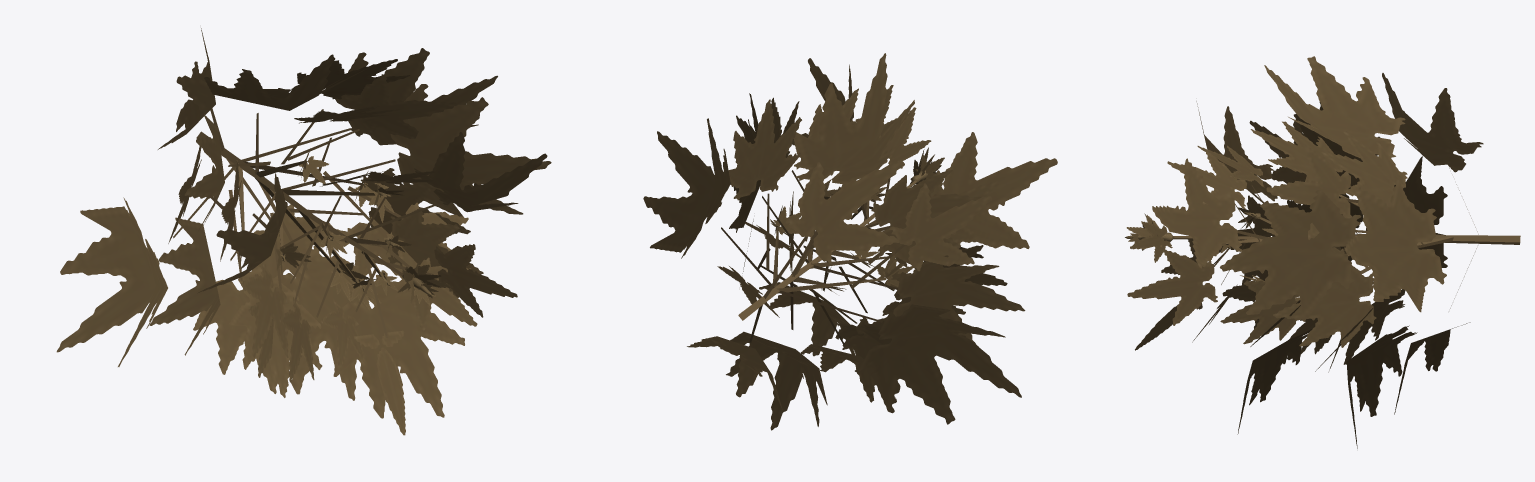
File: p_tree_preflower_c3_cards.obj
3 views of the same model, side by side, from view 1: azimuth 30°, elevation 25°; view 2: azimuth 150°, elevation 25°; view 3: azimuth 270°, elevation 25° (orthographic). The views are drawn at different scales.
Size of the model in its own units: 1.7 by 1.46 by 1.32.
Materials: 1 (1 with a texture image).
